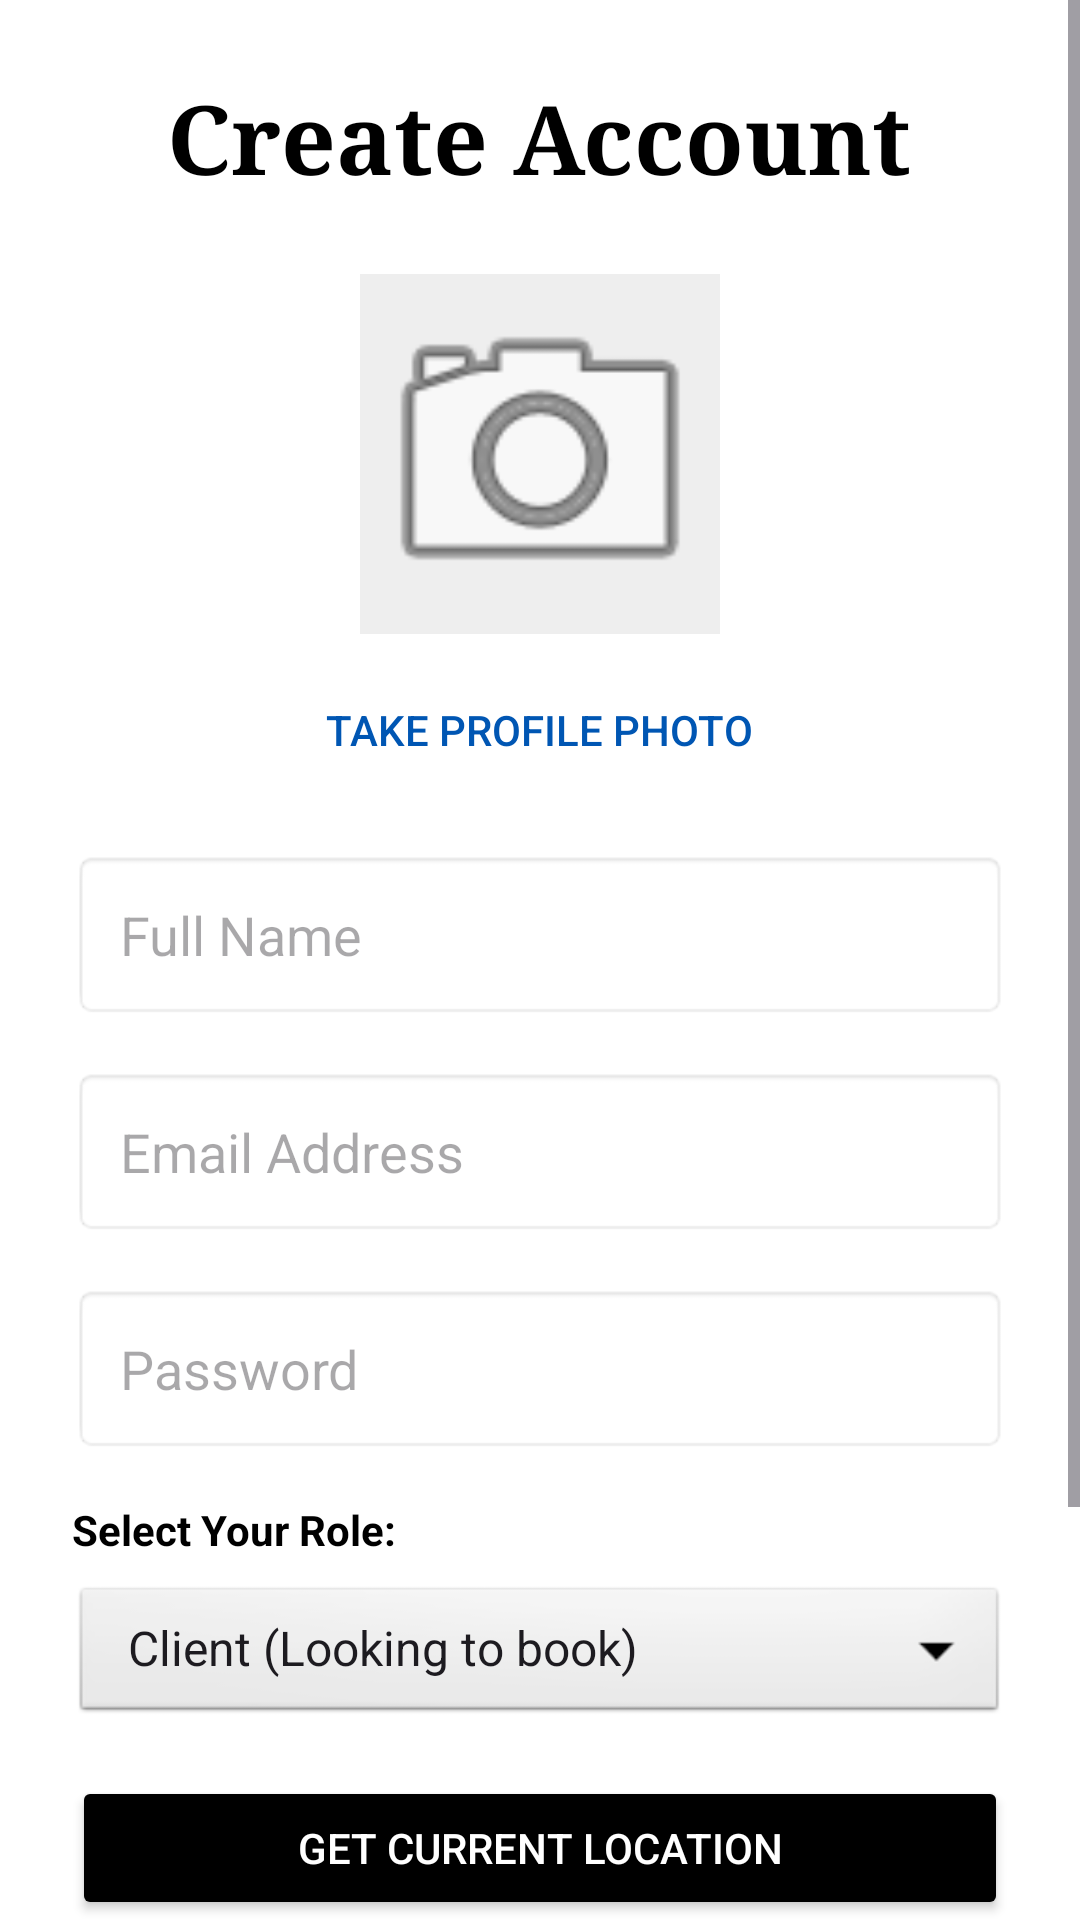

Named icons in this screenshot (1080x1920) and their bounding boxes, region(x1, y1, x2, y2):
camera: region(360, 274, 720, 634)
